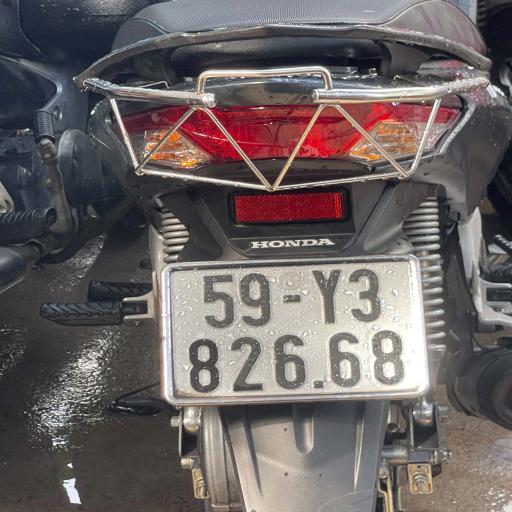2: (228, 331, 277, 399)
3: (346, 262, 406, 333)
5: (192, 265, 248, 339)
6: (310, 323, 370, 391), (264, 328, 322, 389)
8: (363, 326, 419, 393), (176, 330, 224, 399)
9: (233, 261, 275, 331)
Y: (294, 262, 350, 330)
